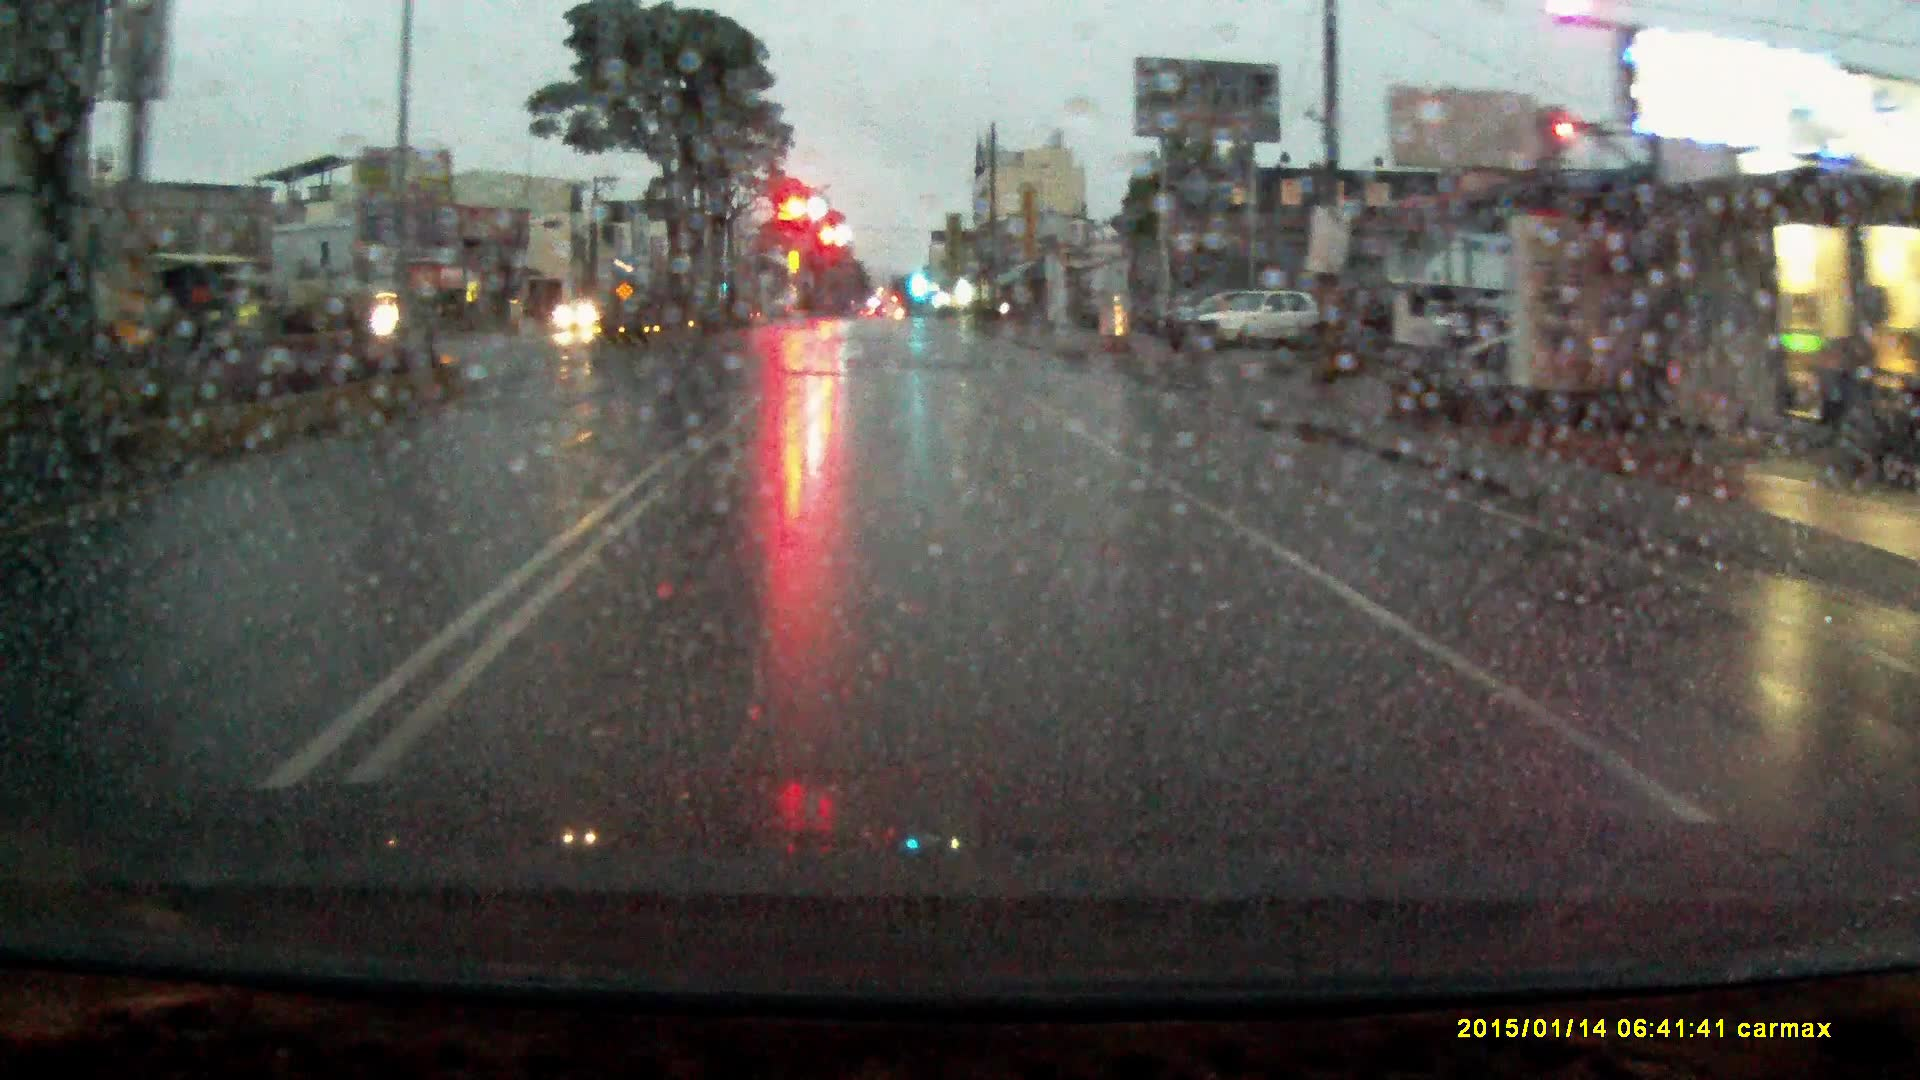vehicle: (1193, 284, 1338, 349), (1160, 291, 1255, 353), (556, 295, 607, 331)
